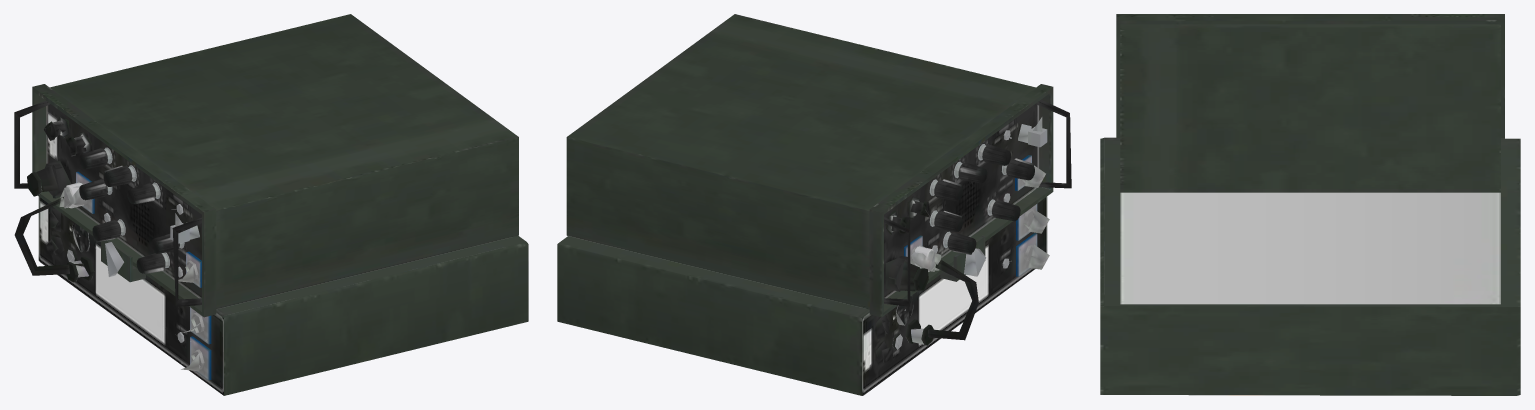
Rendered from item-radio.glb.
The picture shows the model from 3 angles, left to right: view 1: azimuth 30°, elevation 25°; view 2: azimuth 150°, elevation 25°; view 3: azimuth 270°, elevation 25°; orthographic projection. The views are drawn at different scales.
Parts seen in each view (by area): view 1: Box001_Material #2126_0; view 2: Box001_Material #2126_0; view 3: Box001_Material #2126_0.
Part boxes in pixels (x1,y1,x2,y2): Box001_Material #2126_0: (14,14,528,395); Box001_Material #2126_0: (557,14,1071,395); Box001_Material #2126_0: (1100,14,1520,395).
Bounding box in the file's own units: 0.5 × 0.2326 × 0.4285.
1 material, 1 textured.
